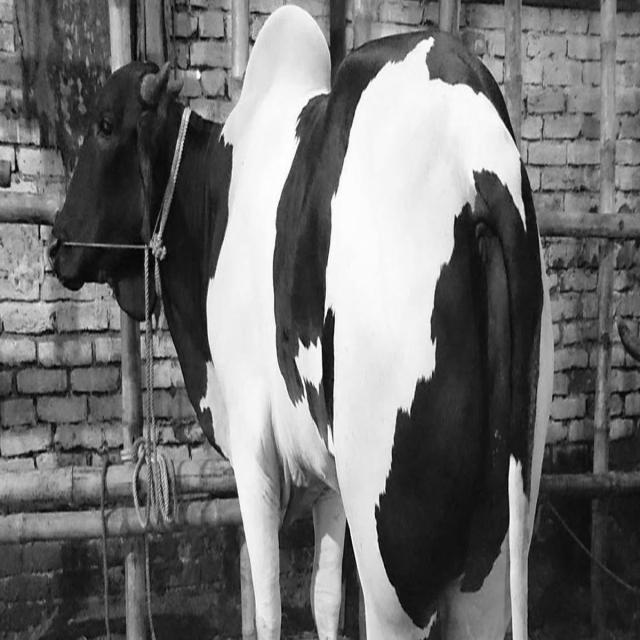Cow: (49, 58, 539, 640)
